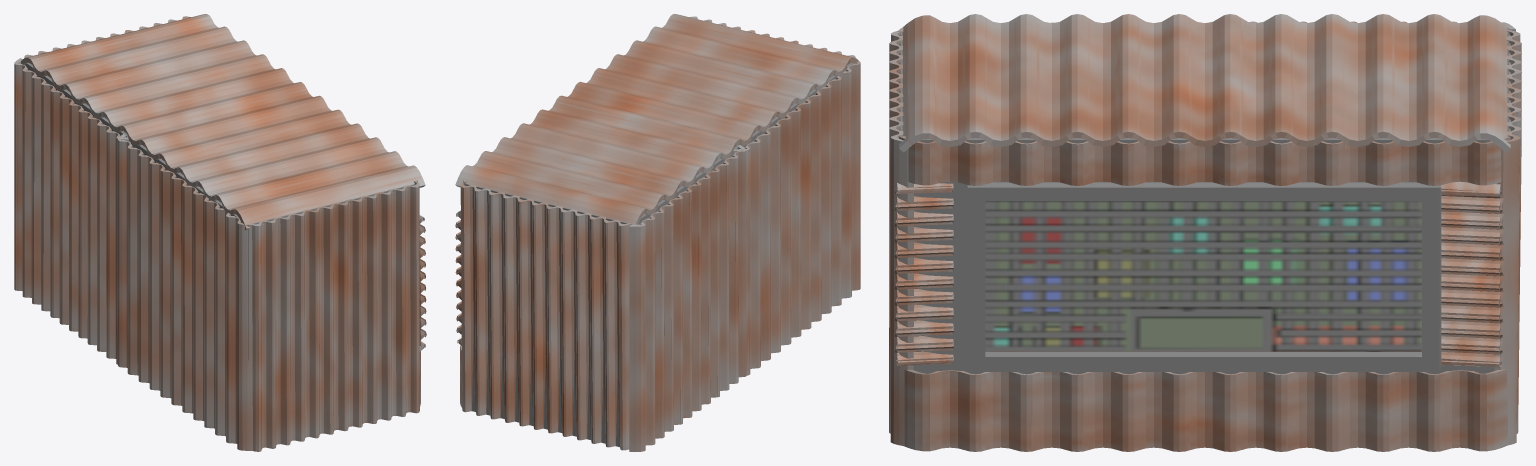
File: kalawang.fbx
3 views of the same model, side by side, from view 1: azimuth 30°, elevation 25°; view 2: azimuth 150°, elevation 25°; view 3: azimuth 270°, elevation 25° (orthographic). The views are drawn at different scales.
Visible parts, largest first — view 1: kalawang; view 2: kalawang; view 3: kalawang.
Part boxes in pixels (x1=…): kalawang: x1=14, y1=14, x2=426, y2=451; kalawang: x1=455, y1=14, x2=860, y2=451; kalawang: x1=889, y1=14, x2=1521, y2=451.
Size of the model in its own units: 886 by 1038 by 1874.
1 material, 1 textured.
